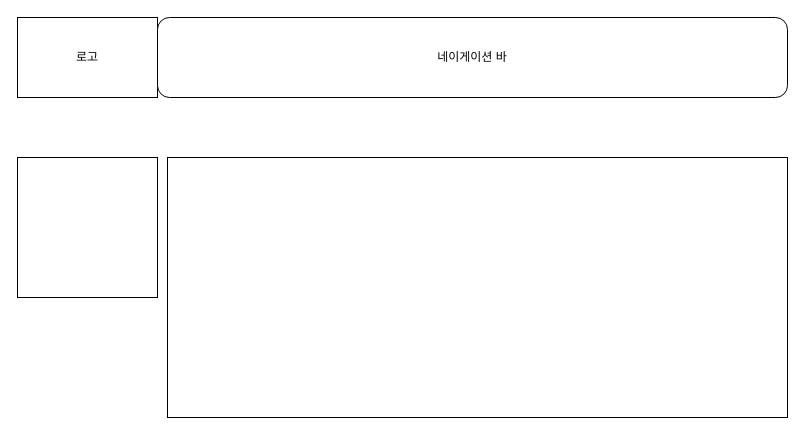
Some shapes in this 805 by 435 pixel diagram are drawn without their labels. The centre of each missing label's shape, as x and y in pixels:
"로그인창 회원가입 비밀번호 찾기" goes at (x=87, y=227).
"본문내용" goes at (x=477, y=287).
